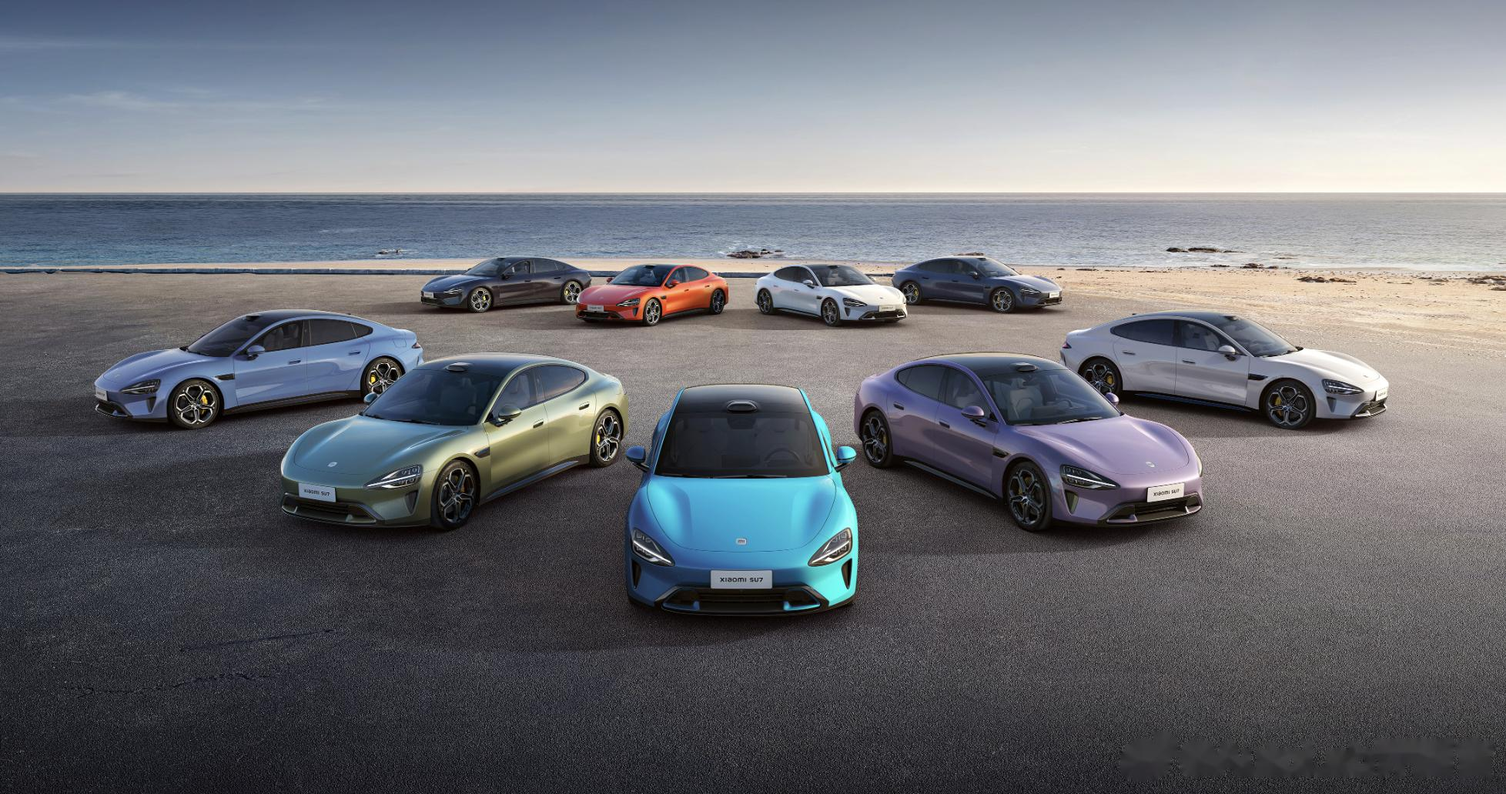su7: (842, 344, 1203, 533), (275, 345, 634, 530), (632, 376, 859, 621), (1056, 309, 1385, 429), (97, 316, 425, 433), (889, 245, 1063, 314), (574, 259, 732, 325), (419, 251, 593, 309), (750, 265, 911, 326)
